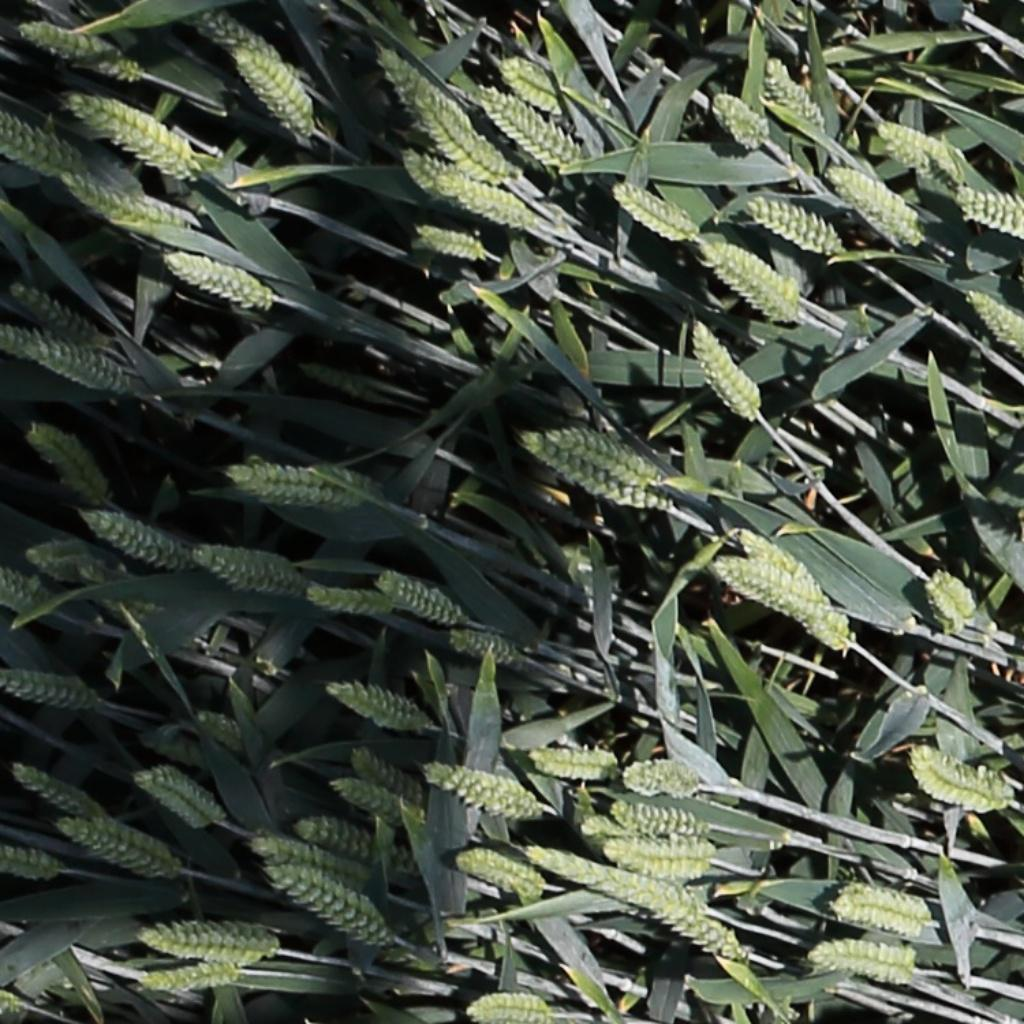0-0: (514, 423, 676, 512), (736, 522, 850, 638), (66, 92, 212, 182), (526, 845, 701, 918), (713, 565, 856, 654), (263, 860, 394, 953), (130, 913, 285, 971), (323, 678, 458, 744), (482, 87, 585, 173), (222, 454, 376, 509), (830, 166, 932, 248), (685, 315, 761, 423), (180, 539, 314, 600), (703, 245, 808, 321), (900, 741, 1011, 812), (4, 330, 131, 391), (162, 252, 281, 317), (416, 95, 505, 178), (230, 45, 312, 135), (130, 759, 228, 831), (62, 174, 187, 230), (19, 21, 139, 79), (394, 145, 491, 216), (800, 939, 935, 990), (28, 420, 112, 499), (86, 510, 187, 573), (424, 765, 536, 820), (8, 281, 103, 345), (57, 821, 166, 876), (546, 431, 656, 483), (447, 846, 549, 900), (248, 839, 360, 888), (833, 881, 935, 934), (877, 117, 966, 177), (759, 55, 827, 132), (603, 832, 724, 875), (748, 196, 842, 251), (0, 110, 81, 173), (10, 764, 99, 821), (438, 172, 531, 225), (373, 568, 464, 621), (191, 8, 277, 64), (709, 91, 780, 158), (611, 182, 694, 238), (616, 754, 713, 800), (965, 286, 1024, 361), (603, 800, 715, 839), (659, 907, 745, 957), (526, 742, 628, 784), (411, 222, 499, 270), (348, 749, 421, 806), (954, 187, 1024, 243), (461, 987, 560, 1024), (290, 821, 379, 862), (0, 839, 79, 885), (329, 778, 402, 826), (1, 671, 95, 708), (499, 64, 563, 114), (924, 569, 973, 632), (27, 546, 102, 584), (0, 560, 50, 615), (195, 708, 253, 755), (447, 632, 520, 664), (304, 587, 390, 614), (136, 969, 237, 989)
